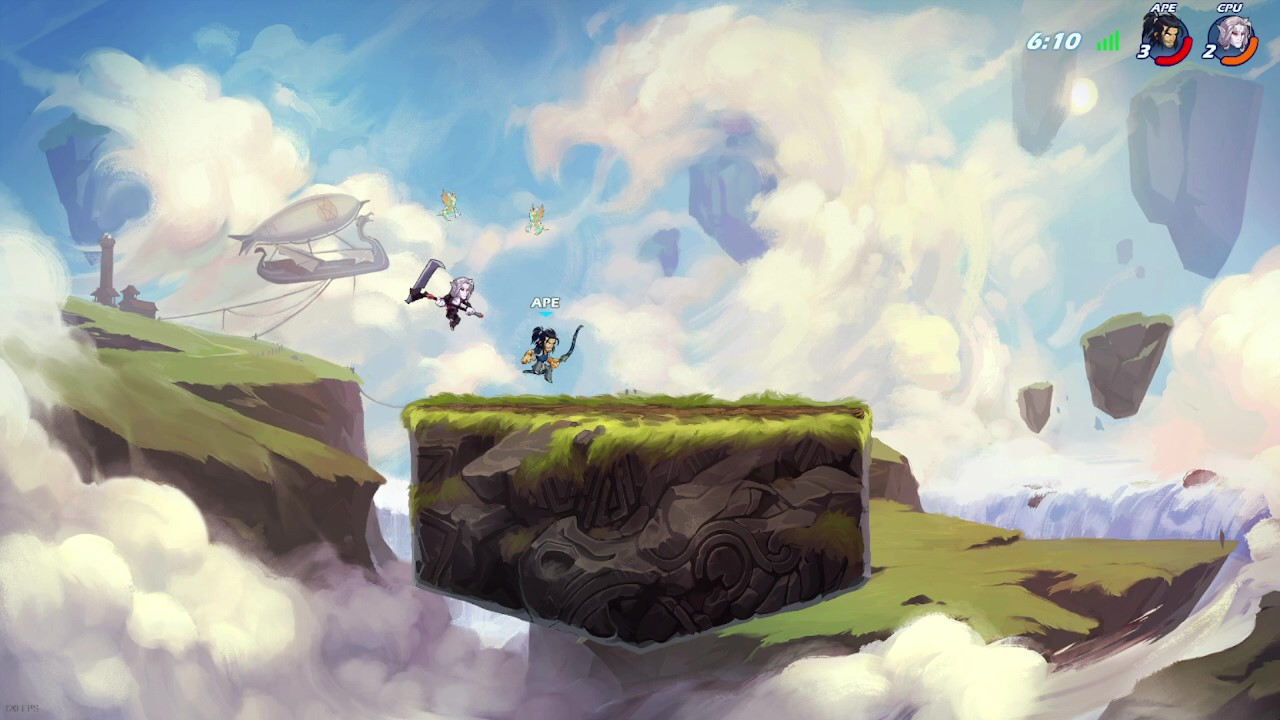koji: (521, 325, 560, 383)
koji_health_red: (1154, 15, 1193, 66)
koji_lives_3: (1136, 11, 1184, 59)
time_seconds_370: (1027, 32, 1082, 49)
volkov: (435, 276, 475, 331)
volkov_health_orange: (1220, 16, 1259, 66)
volkov_lives_2: (1202, 15, 1256, 59)
